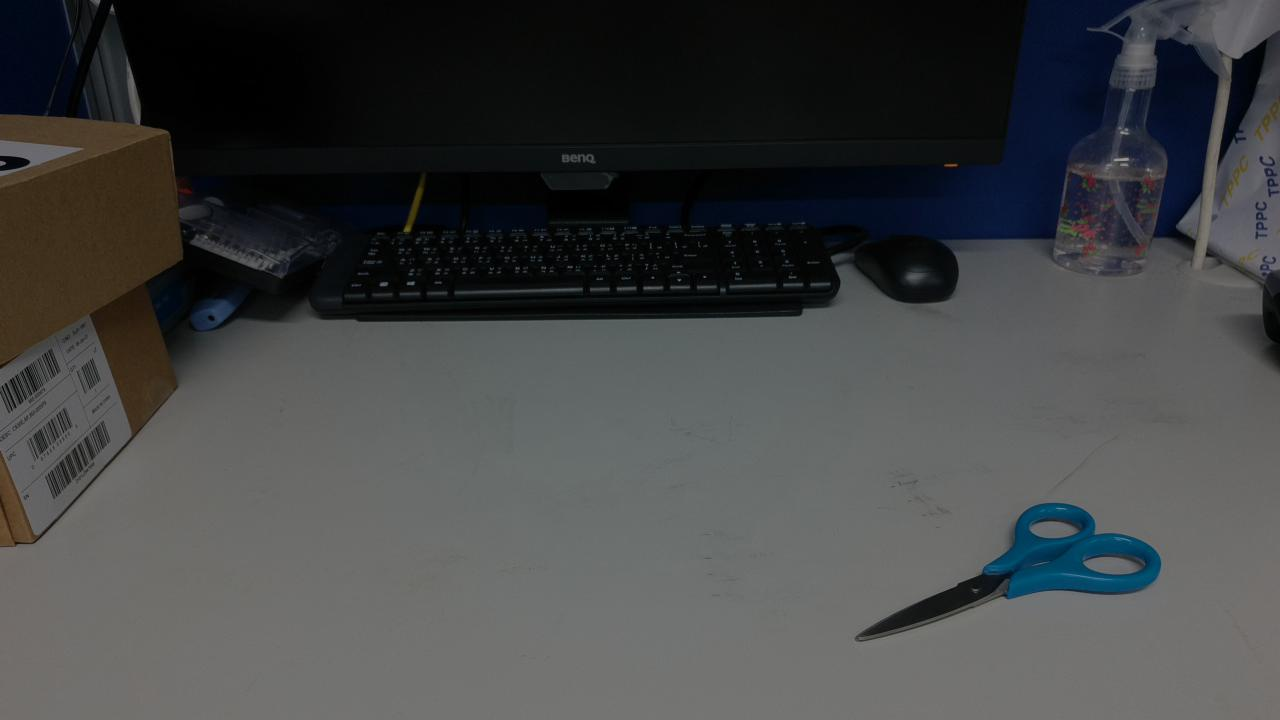columnar: (877, 233, 1075, 449)
grip: (849, 249, 883, 351)
